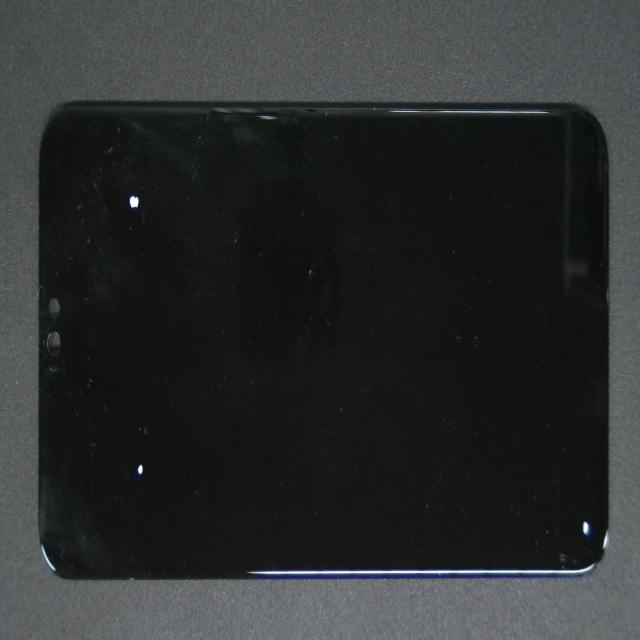stain: (287, 204, 640, 640), (73, 204, 196, 640), (73, 70, 192, 278)
